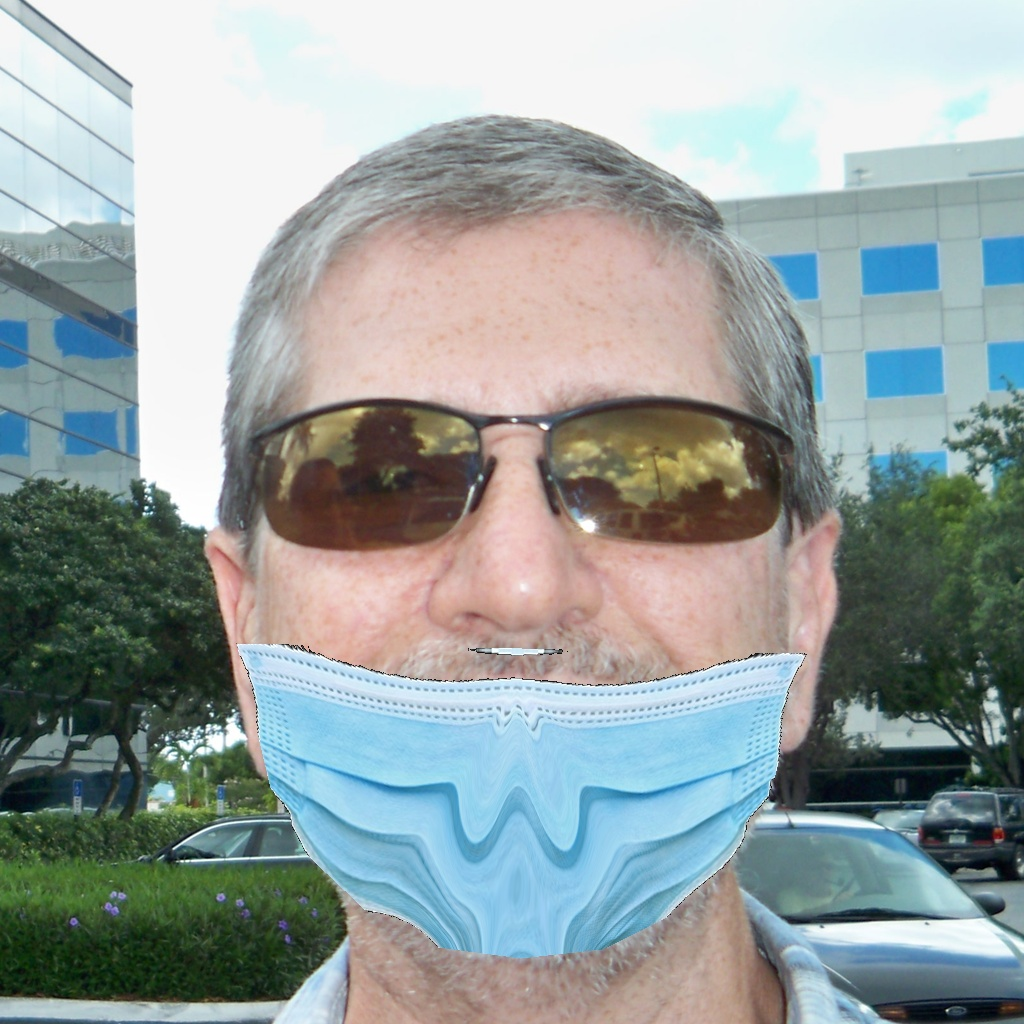mascarilla_mal_puesta: (232, 368, 862, 970)
